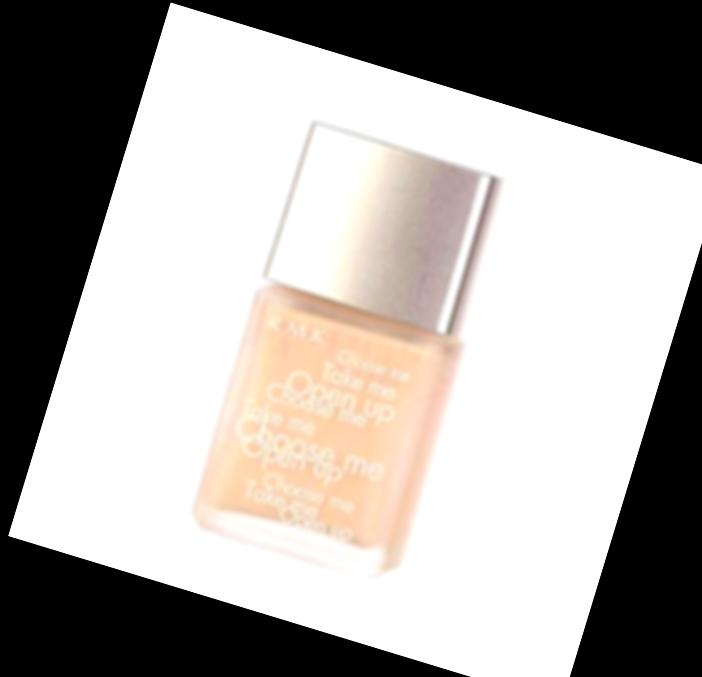cosmetic: (181, 115, 522, 590)
